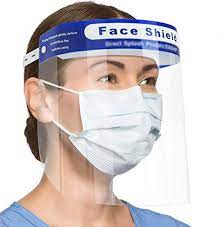FaceMask: (70, 87, 163, 175)
